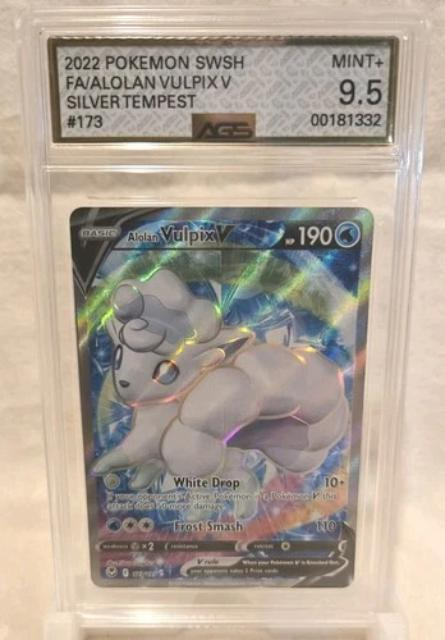Card: (67, 196, 376, 591)
Name: (124, 218, 265, 248)
